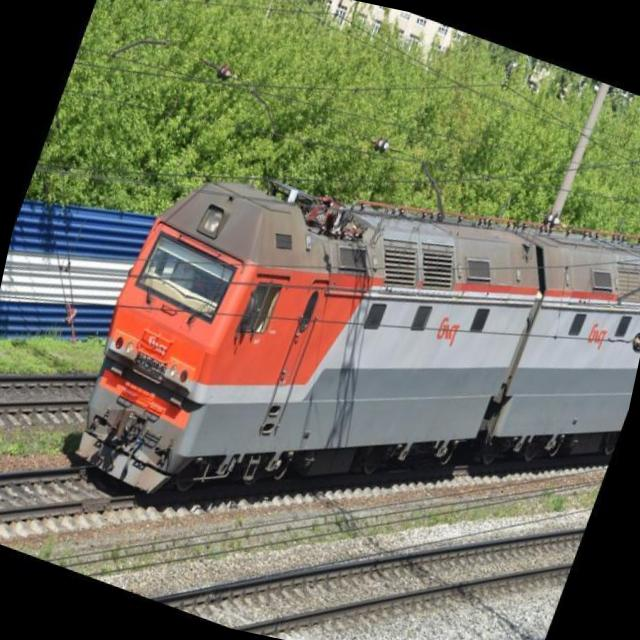rail-track: (144, 530, 586, 631), (232, 568, 570, 640), (0, 471, 135, 519), (0, 378, 93, 410)
trains: (73, 183, 640, 497)
